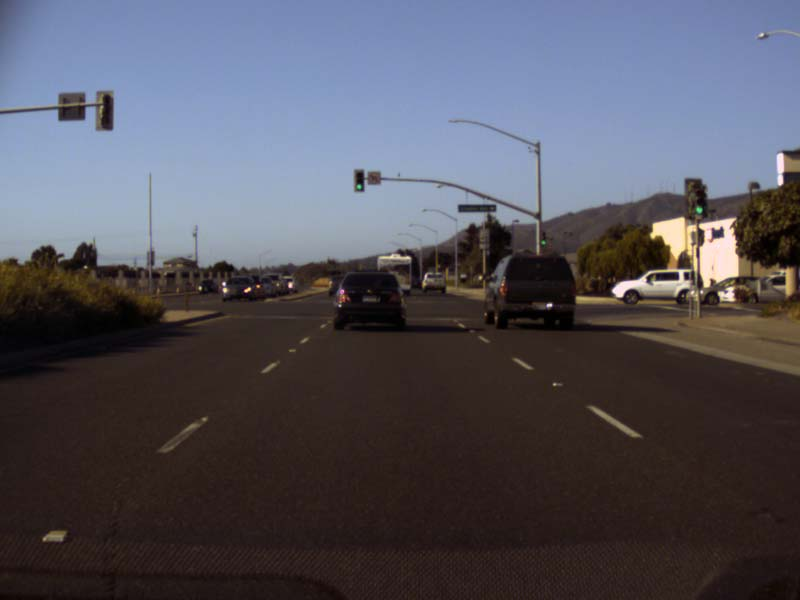Green: (693, 188, 704, 214), (353, 168, 363, 191), (540, 230, 546, 245)
